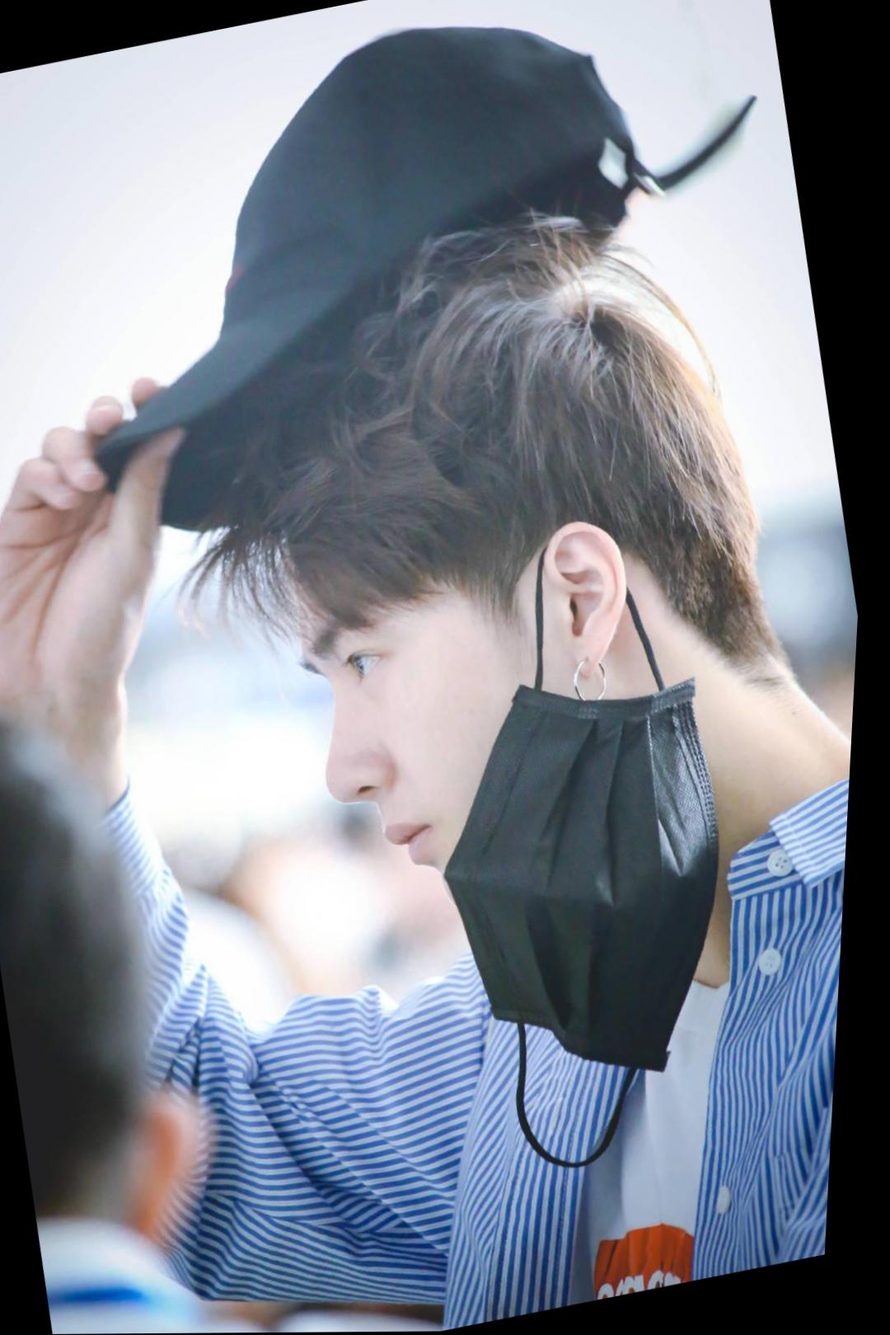WRONG: (283, 554, 600, 933)
